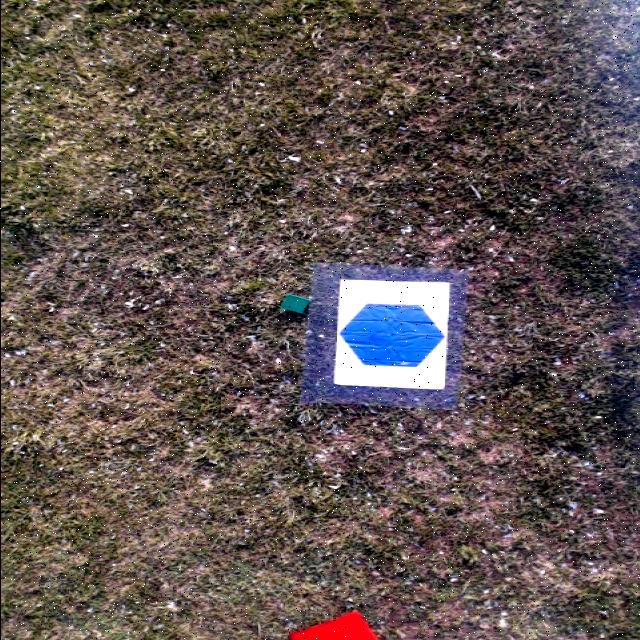blue_hexagon: (339, 305, 444, 366)
